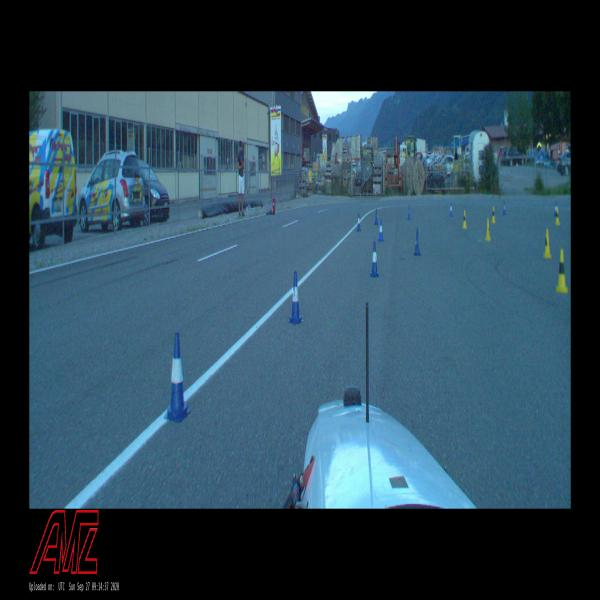blue_cone: (165, 333, 191, 421), (289, 271, 303, 324), (370, 241, 379, 277), (414, 228, 420, 256), (378, 218, 384, 241), (357, 213, 361, 232), (374, 209, 378, 225), (449, 202, 453, 217), (407, 204, 411, 219), (502, 201, 506, 215)
yellow_cone: (556, 249, 568, 292), (542, 228, 552, 258), (484, 218, 490, 240), (461, 210, 467, 228), (555, 207, 560, 225), (491, 206, 495, 222)
